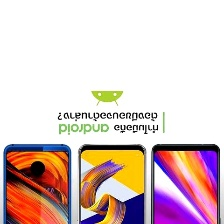phone: (147, 140, 222, 224), (0, 139, 73, 224), (75, 141, 148, 224)
